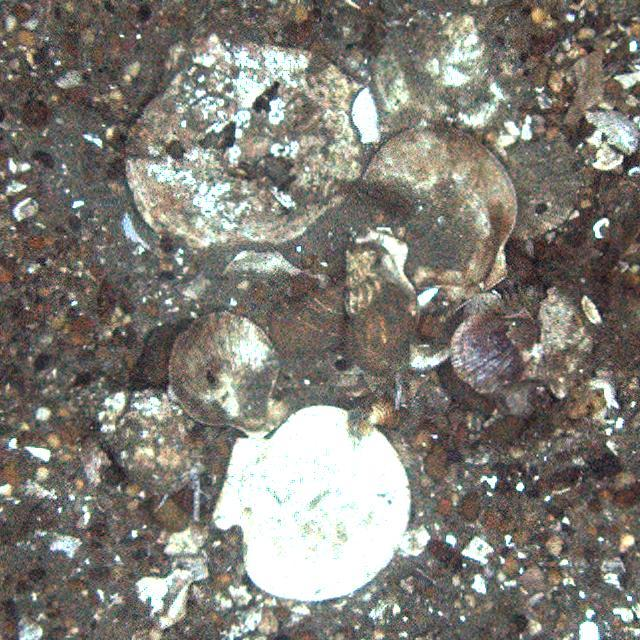whelk: (335, 255, 419, 375)
